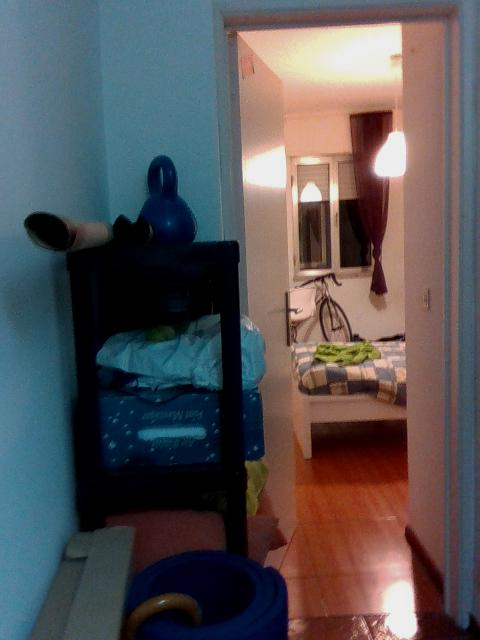open_door: (212, 4, 463, 622)
